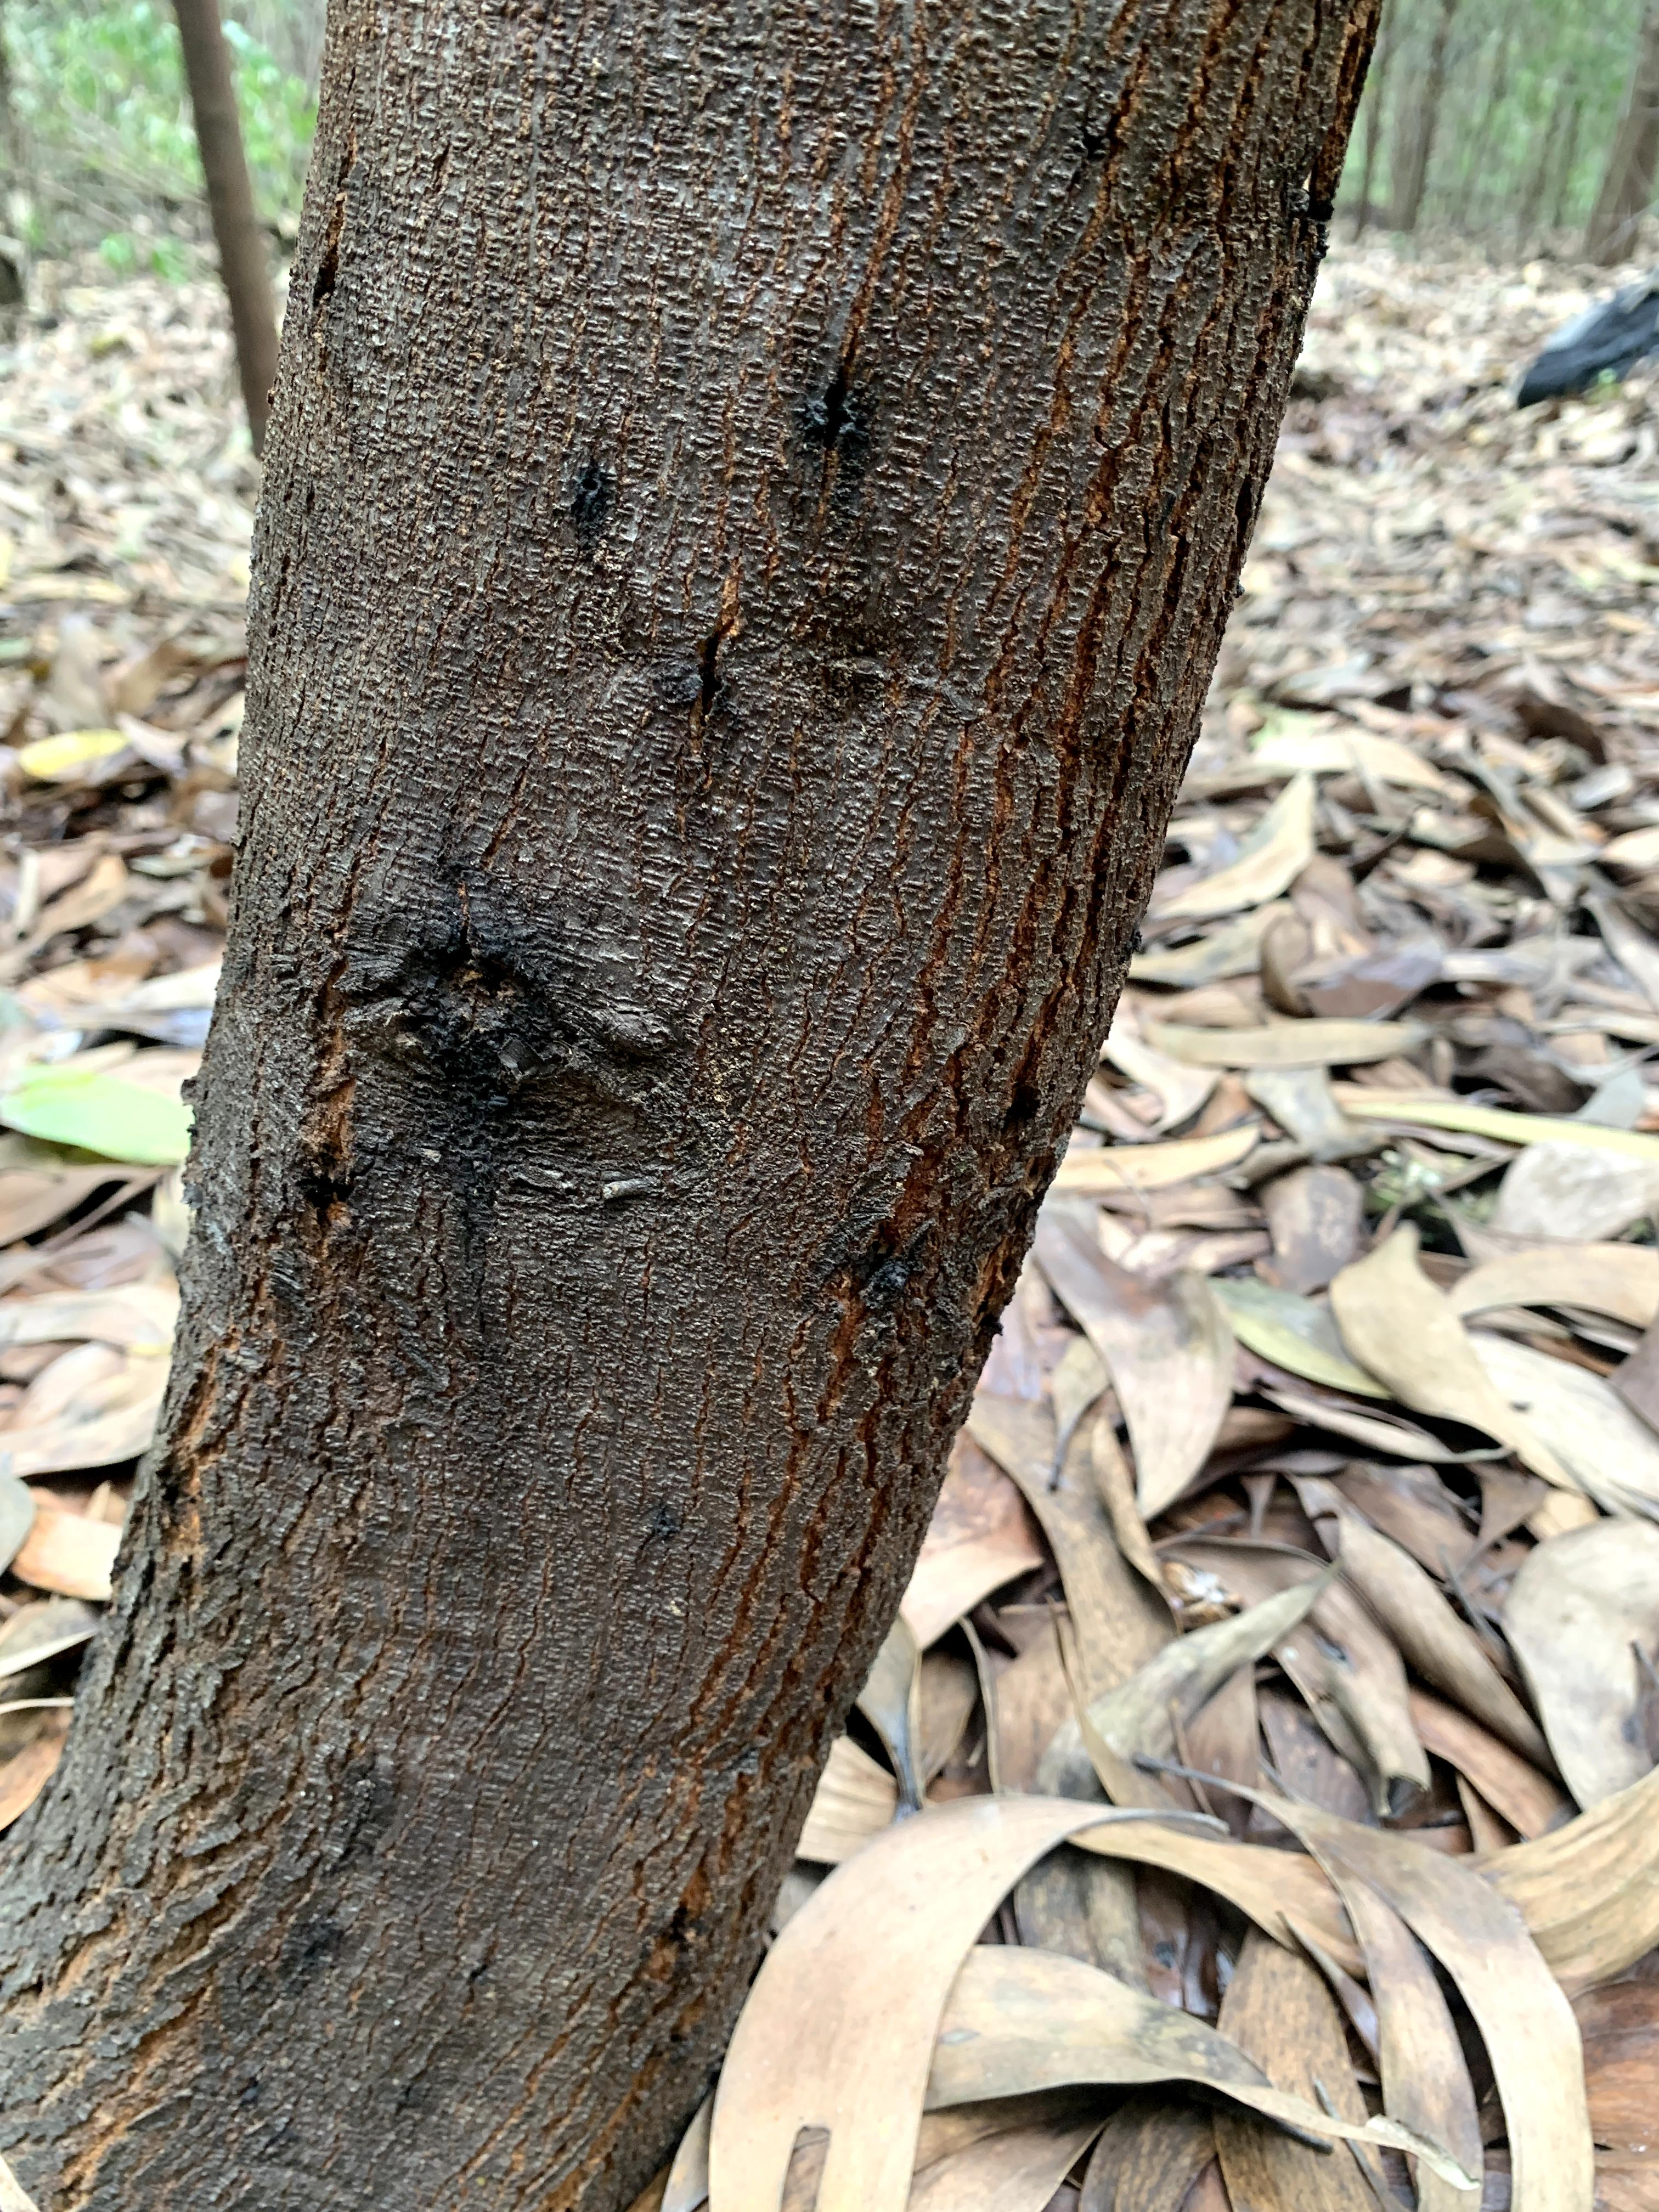Stem Borer: (340, 850, 608, 1118), (760, 326, 924, 484), (655, 590, 793, 763), (805, 1179, 929, 1341), (542, 428, 636, 603), (275, 1157, 385, 1252)
